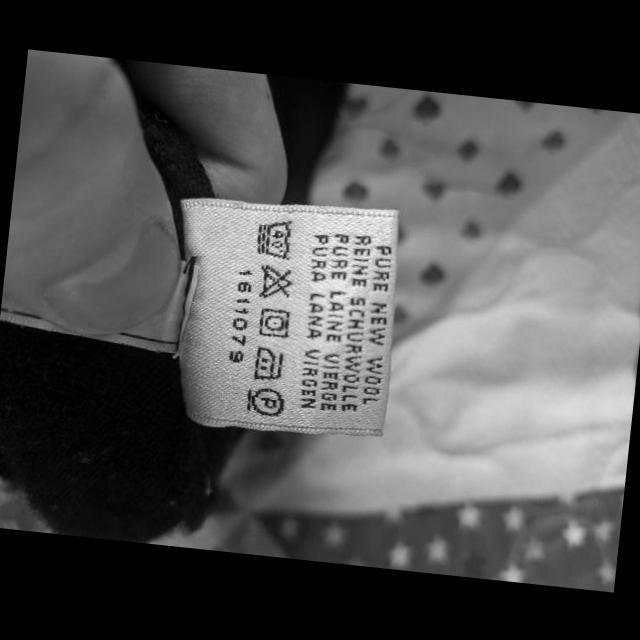40C: (252, 214, 294, 262)
DN_bleach: (256, 262, 294, 300)
iron_medium: (250, 344, 284, 382)
normal_dry_clean_solvents: (242, 384, 286, 419)
tumble_dry_low: (256, 306, 291, 338)
